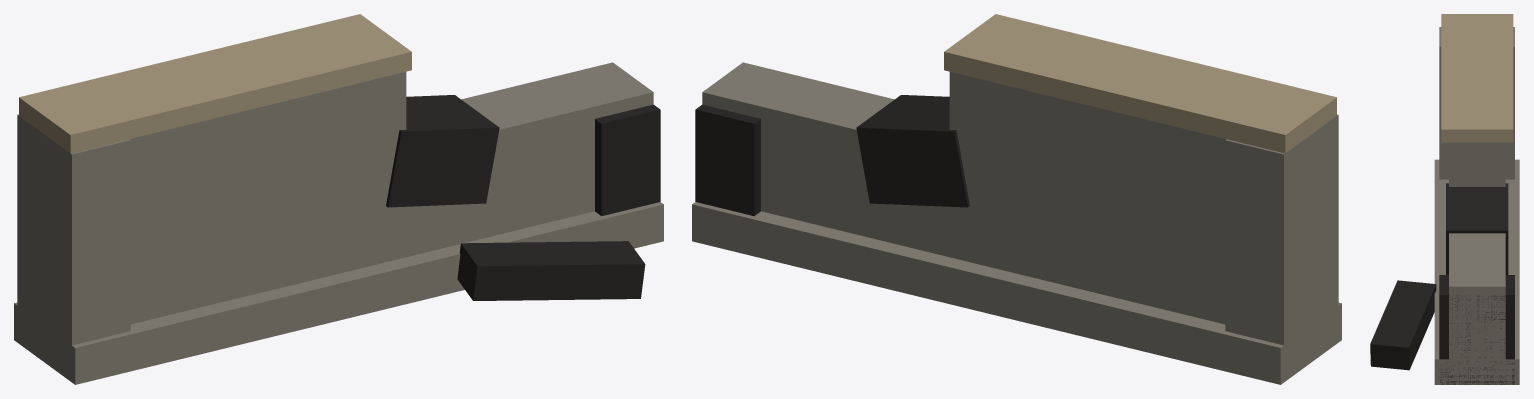
The model's file is RF_Prop_Wall_Damaged.glb.
3 views of the same model, side by side, from view 1: azimuth 30°, elevation 25°; view 2: azimuth 150°, elevation 25°; view 3: azimuth 270°, elevation 25° (orthographic). The views are drawn at different scales.
Parts seen in each view (by area): view 1: RF_Prop_Wall_Damaged; view 2: RF_Prop_Wall_Damaged; view 3: RF_Prop_Wall_Damaged.
Part boxes in pixels (x1,y1,x2,y2): RF_Prop_Wall_Damaged: (14, 14, 663, 384); RF_Prop_Wall_Damaged: (692, 14, 1341, 384); RF_Prop_Wall_Damaged: (1370, 14, 1519, 384).
Bounding box in the file's own units: 5 × 2.06 × 1.58.
